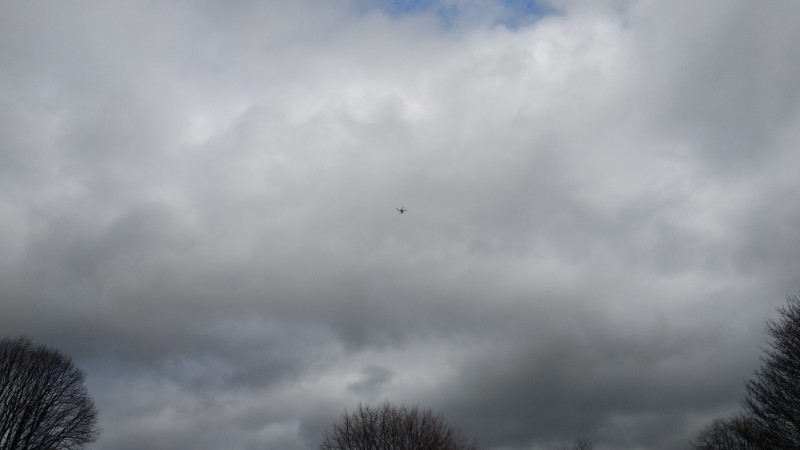drone: (396, 205, 407, 214)
